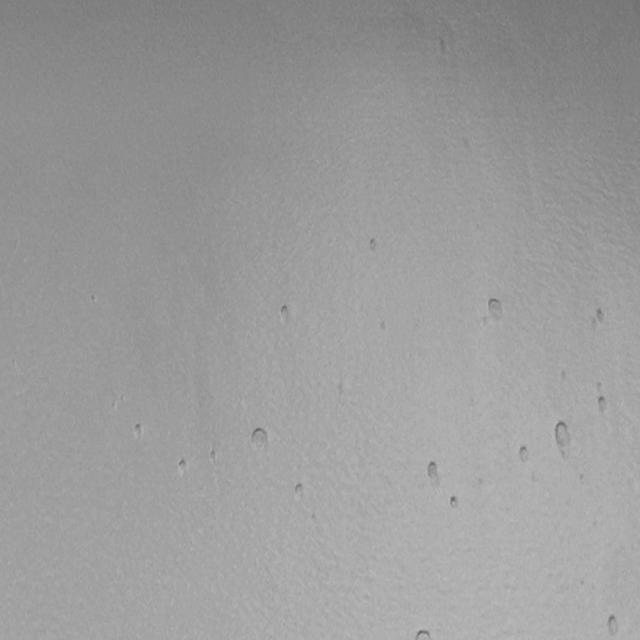pin holes: (550, 417, 576, 458), (482, 296, 506, 326), (247, 425, 270, 454), (603, 612, 626, 639), (422, 458, 443, 486), (276, 300, 295, 326), (592, 306, 612, 330), (596, 392, 614, 417), (131, 420, 148, 444), (446, 492, 465, 513), (516, 444, 534, 466), (176, 456, 194, 478), (367, 235, 384, 255), (292, 480, 308, 501), (412, 628, 434, 640), (377, 314, 390, 334), (476, 476, 488, 496), (207, 448, 220, 464), (559, 366, 569, 386), (88, 294, 101, 308), (576, 469, 586, 485), (595, 377, 605, 393)
